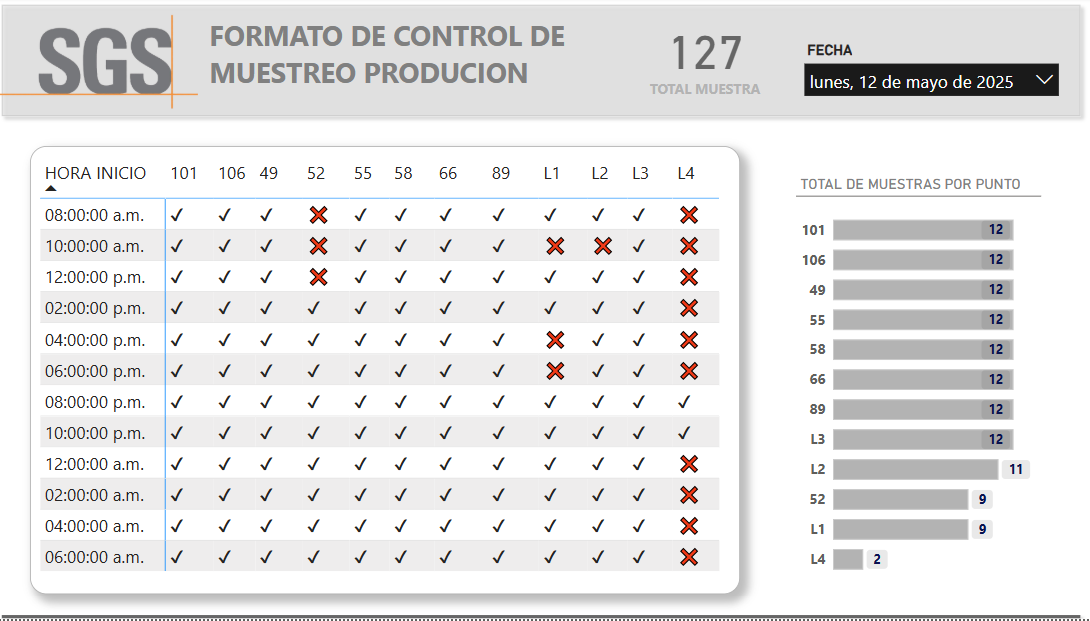

The dashboard page shown, as its layout file describes it:
{"tool":"powerbi","page":{"name":"HOR1","canvas":[1280,720],"ordinal":0},"visuals":[{"type":"shape","box":[0,0,1266.5,146.9],"z":0},{"type":"pivotTable","fields":{"Rows":["CORTE.HORA INICIO"],"Columns":["SGSMUESTRA.PUNTO"],"Values":["Min(SGSMUESTRA.VALOR)"]},"box":[41.8,172.5,821.9,518.7],"z":1000},{"type":"slicer","fields":{"Values":["SGSMUESTRA.FECHA"]},"box":[928.4,46.3,313.7,103],"z":2000},{"type":"clusteredBarChart","title":"TOTAL DE MUESTRAS POR PUNTO","fields":{"Category":["SGSMUESTRA.PUNTO"],"Y":["Sum(SGSMUESTRA.VALOR2)"]},"box":[928.3,206.1,284.3,475.6],"z":3000},{"type":"image","box":[0,0,241.2,149.6],"z":4000},{"type":"card","fields":{"Values":["Sum(SGSMUESTRA.VALOR2)"]},"box":[717.7,16.2,210.7,103],"z":5000},{"type":"textbox","box":[243.9,16.2,528.2,98.4],"z":6000},{"type":"shape","box":[0,708.7,1266.5,10.8],"z":7000}]}

Visuals, with their boxes in screenshot pixels (x1, y1, x2, y2), scaled from the page's 1280x720 canvas onto the 1090x621 screenshot:
shape: [x1=0, y1=0, x2=1079, y2=127]
pivotTable - CORTE.HORA INICIO x SGSMUESTRA.PUNTO: [x1=36, y1=149, x2=735, y2=596]
slicer - SGSMUESTRA.FECHA: [x1=791, y1=40, x2=1058, y2=129]
"TOTAL DE MUESTRAS POR PUNTO" clusteredBarChart: [x1=791, y1=178, x2=1033, y2=588]
image: [x1=0, y1=0, x2=205, y2=129]
card - Sum(SGSMUESTRA.VALOR2): [x1=611, y1=14, x2=791, y2=103]
textbox: [x1=208, y1=14, x2=657, y2=99]
shape: [x1=0, y1=611, x2=1079, y2=620]
